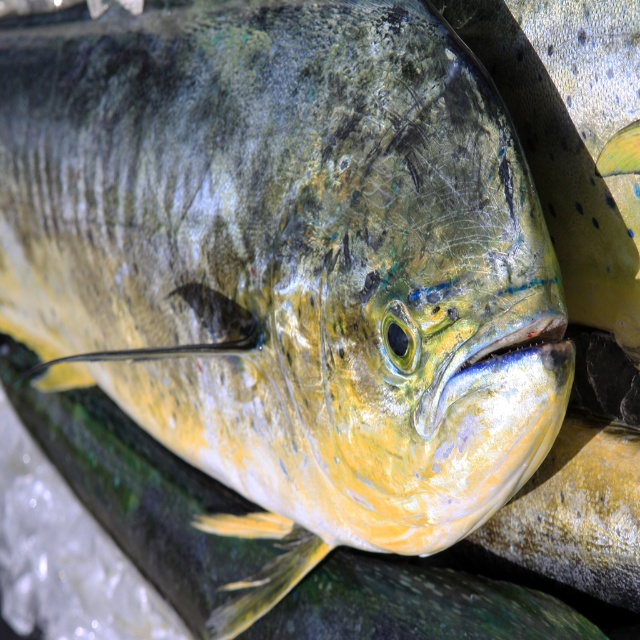Fish: (12, 21, 590, 602)
